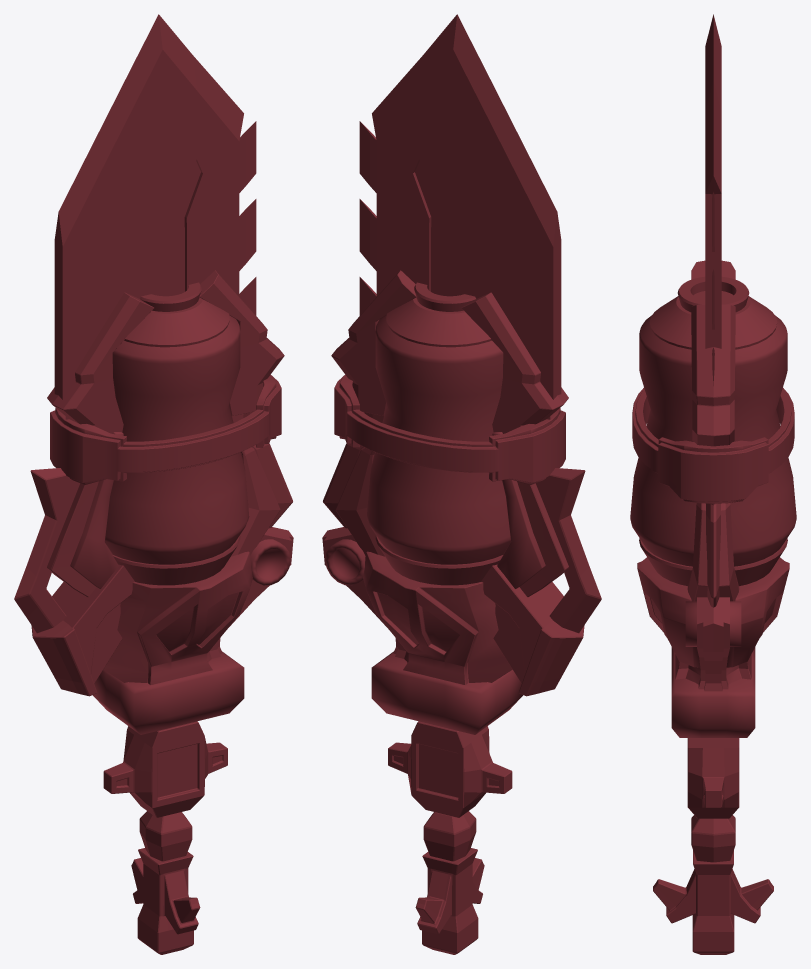
Rendered from WEA_Ragnar_Mesh.fbx.
3 renders of one model, left to right at view 1: azimuth 30°, elevation 25°; view 2: azimuth 150°, elevation 25°; view 3: azimuth 270°, elevation 25°, orthographic.
Visible parts, largest first — view 1: Ragnar; view 2: Ragnar; view 3: Ragnar.
Boxes of the visible parts, <box> form: Ragnar: <box>14,14,293,954</box>; Ragnar: <box>322,14,601,954</box>; Ragnar: <box>630,14,796,954</box>.
Size of the model in its own units: 33.88 by 109 by 17.59.
